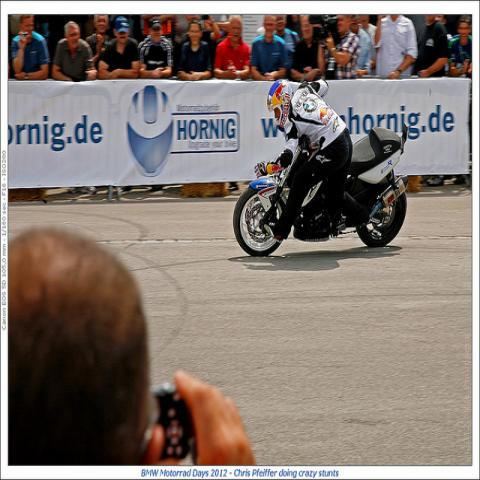motorcycle: (233, 126, 409, 255)
